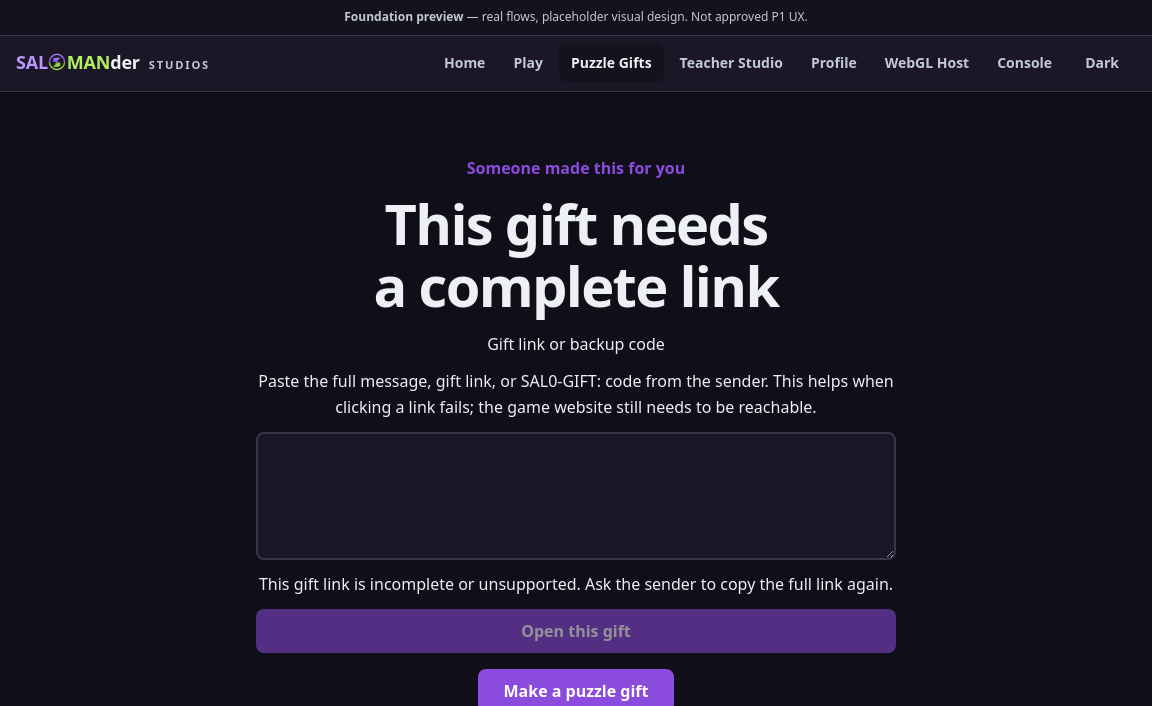
Test: retains invalid recovery text and location without touching image preparation
Click the text box labelled "Gift link or backup code": (576, 496) [256, 432, 896, 560]
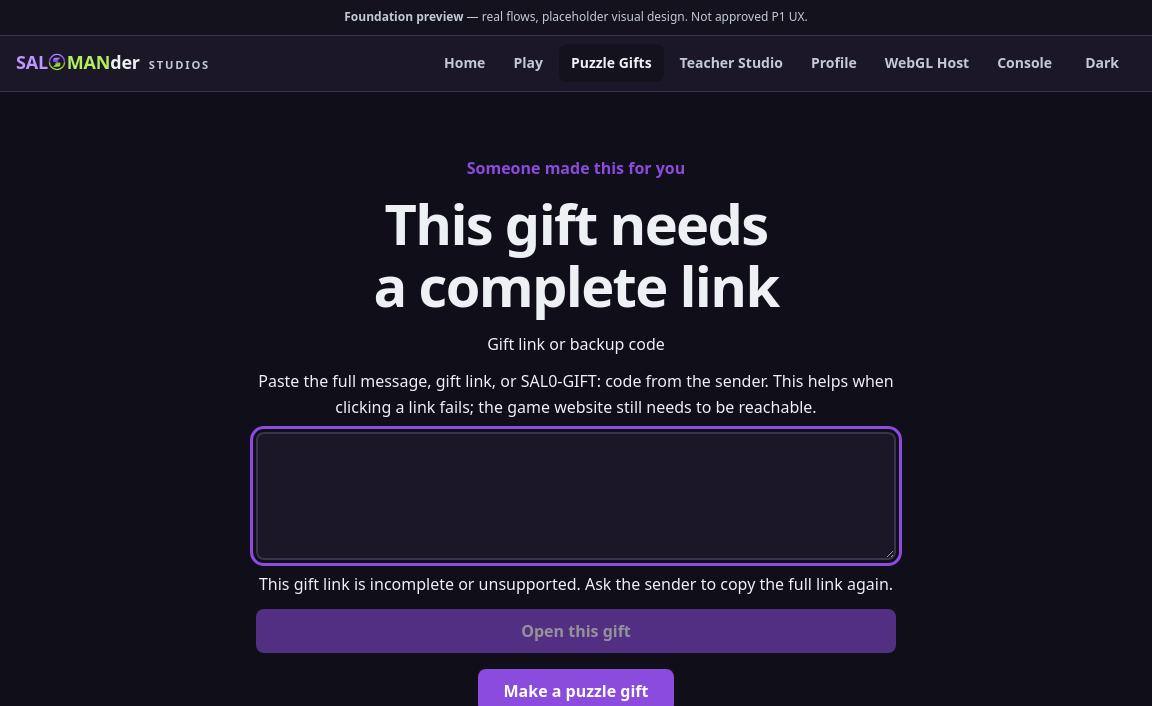
Type keys "https://elsewhere.example/gifts/play#gift=broken"
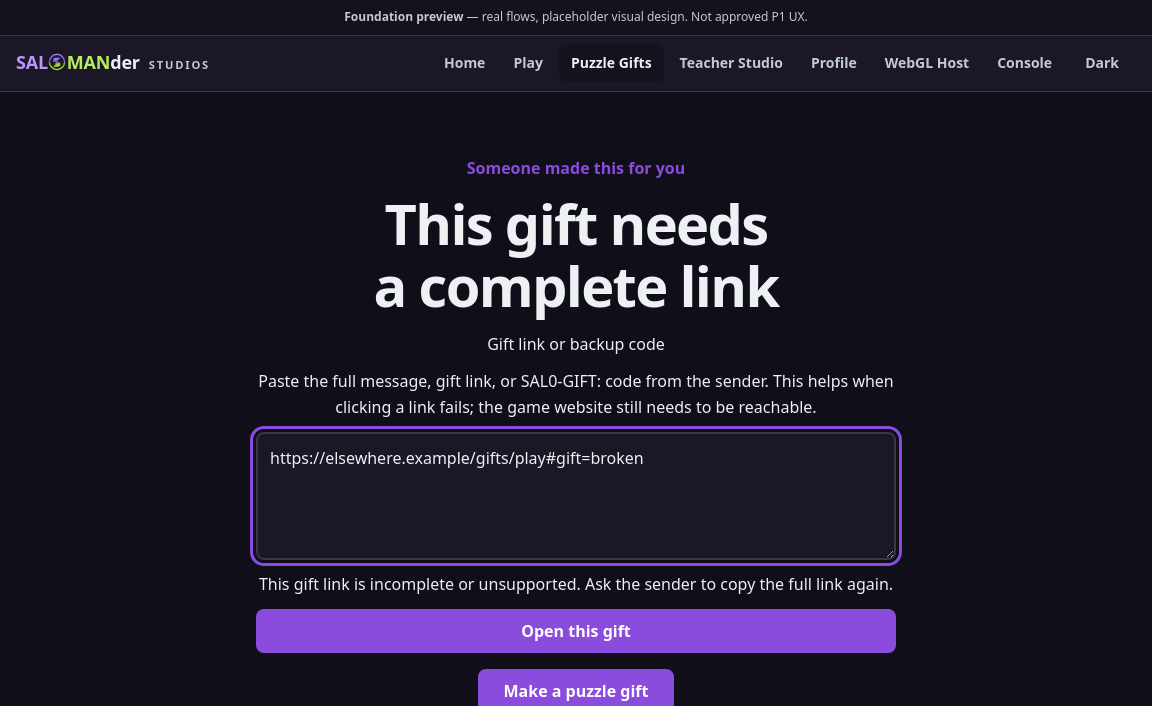
Click the button "Open this gift": (576, 631) [256, 609, 896, 653]
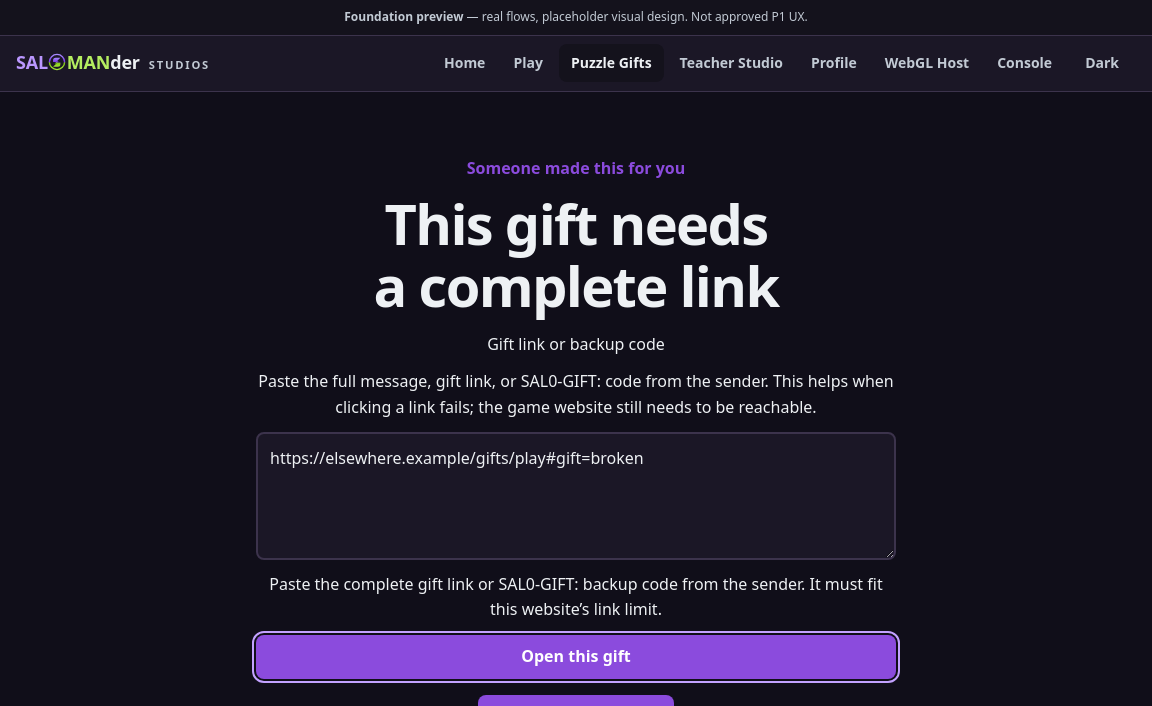
Expected: the text box labelled "Gift link or backup code" holds "https://elsewhere.example/gifts/play#gift=broken", [256, 432, 896, 560]
Expected: the message shows "complete gift link", [269, 572, 883, 620]
